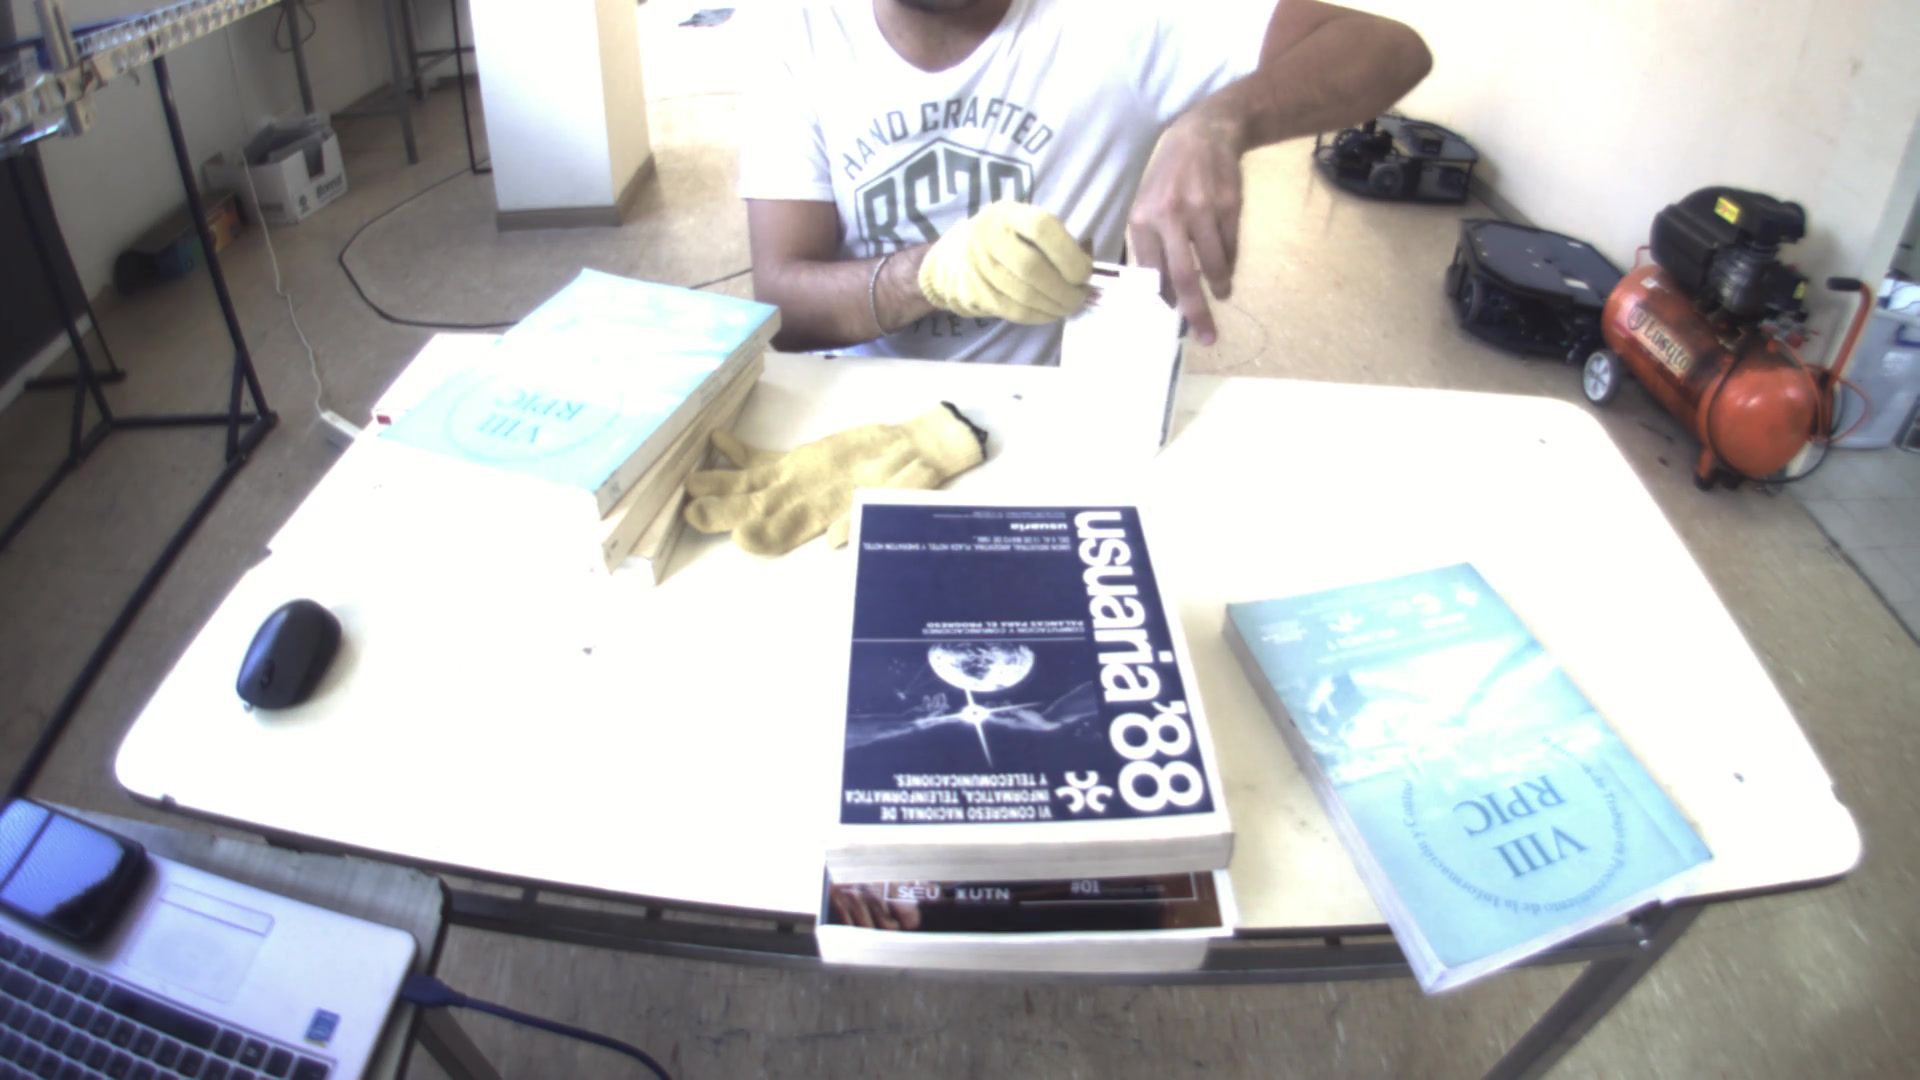hand: (1130, 104, 1259, 335), (910, 187, 1109, 323)
